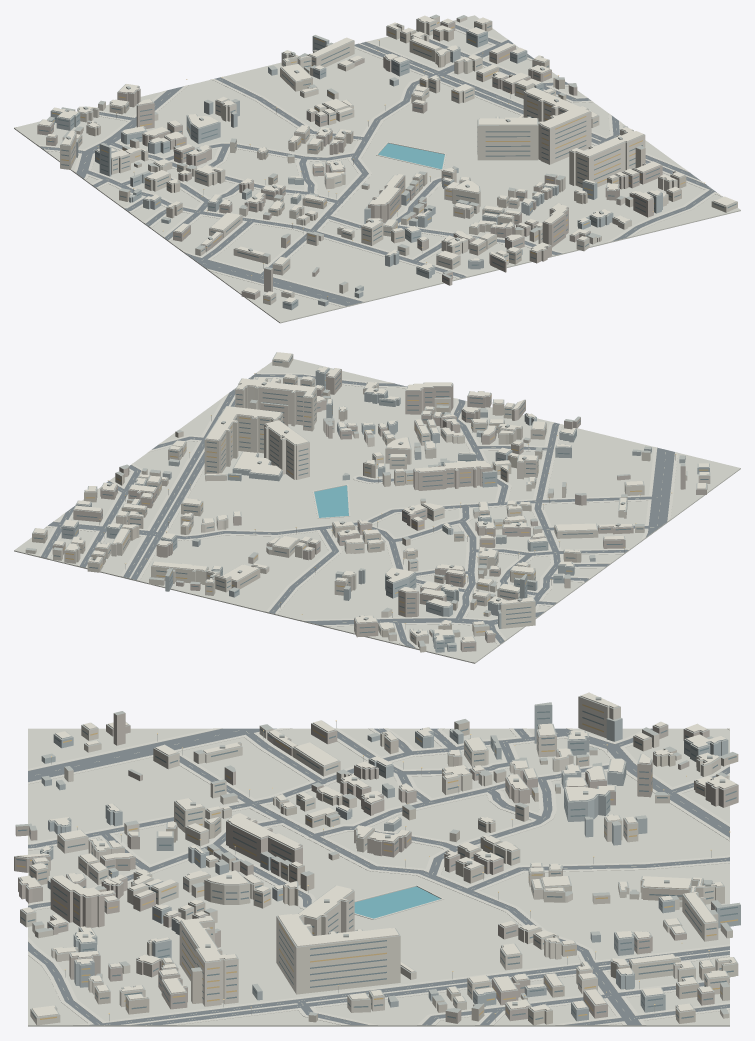
3 renders of one model, top to bottom at view 1: azimuth 30°, elevation 25°; view 2: azimuth 150°, elevation 25°; view 3: azimuth 270°, elevation 25°, orthographic. The views are drawn at different scales.
Parts seen in each view (by area): view 1: city; view 2: city; view 3: city.
Part boxes in pixels (x1,y1,x2,y2): city: (14,14,740,323); city: (14,352,740,663); city: (14,692,740,1026).
Size of the model in its own units: 508 by 39.85 by 518.
